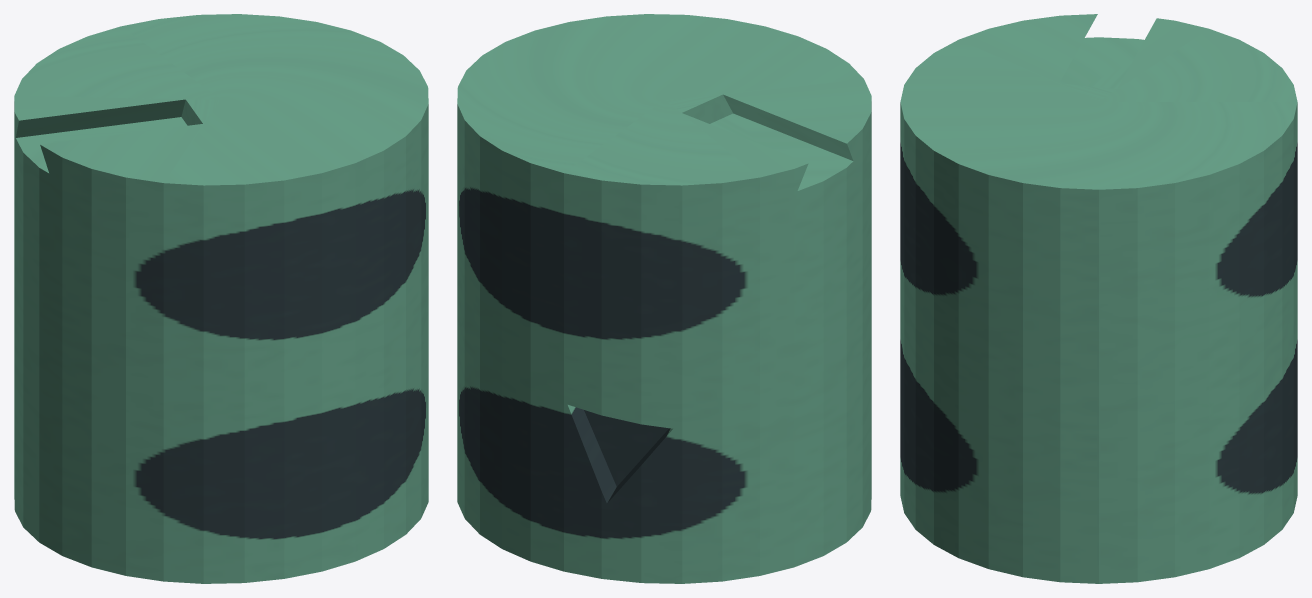
3 renders of one model, left to right at view 1: azimuth 30°, elevation 25°; view 2: azimuth 150°, elevation 25°; view 3: azimuth 270°, elevation 25°, orthographic.
Visible parts, largest first — view 1: geometry_0; view 2: geometry_0; view 3: geometry_0.
Boxes of the visible parts, x1,y1,x2,y2 form: geometry_0: (14, 14, 428, 583); geometry_0: (457, 14, 871, 583); geometry_0: (900, 14, 1297, 583).
Bounding box in the file's own units: 2.01 × 2.1 × 1.92.
1 material, 1 textured.
